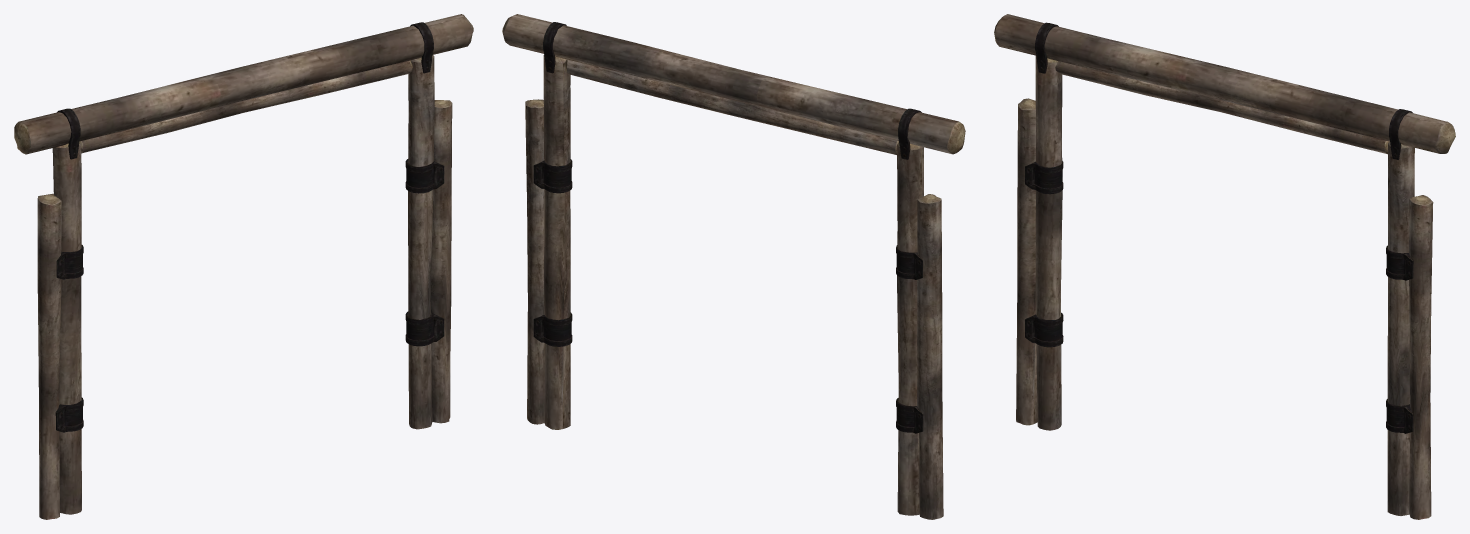
Rendered from jav_struc_def_log_t1_gateframe-transformed.glb.
3 views of the same model, side by side, from view 1: azimuth 30°, elevation 25°; view 2: azimuth 150°, elevation 25°; view 3: azimuth 330°, elevation 25° (orthographic).
Parts seen in each view (by area): view 1: default; view 2: default; view 3: default.
Part boxes in pixels (bbox=[...]): default: bbox=[14, 14, 473, 519]; default: bbox=[502, 14, 965, 519]; default: bbox=[994, 14, 1455, 519].
Size of the model in its own units: 8.83 by 7.44 by 0.6059.
Materials: 1 (1 with a texture image).
